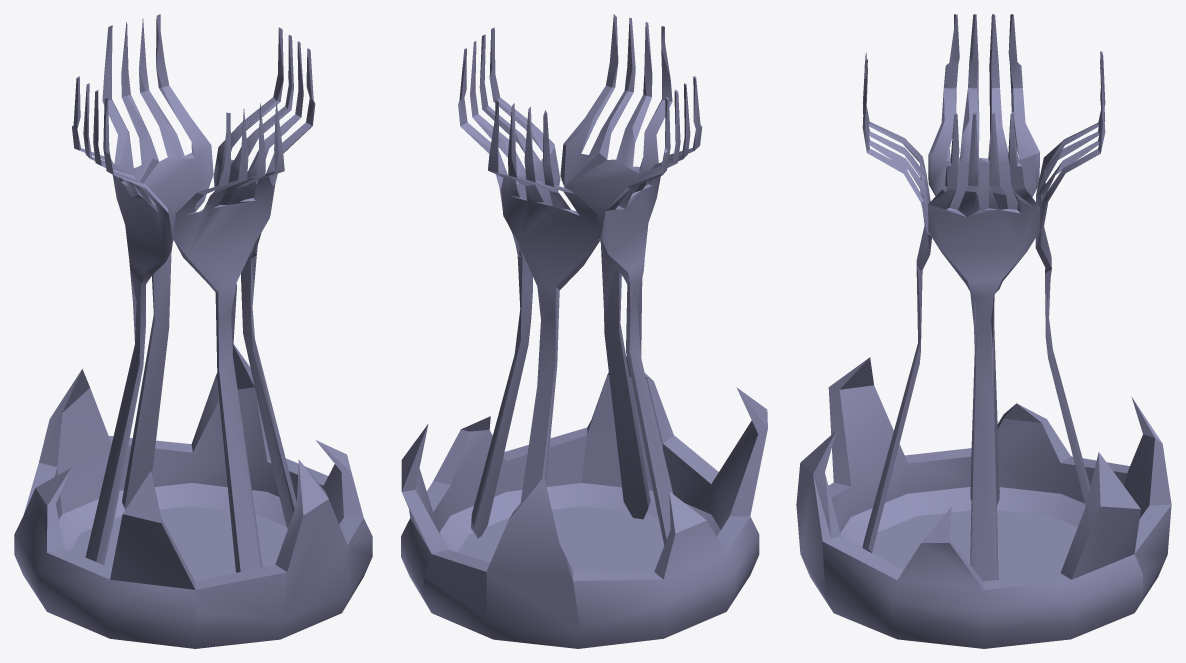
File: TorreTalher.fbx
3 renders of one model, left to right at view 1: azimuth 30°, elevation 25°; view 2: azimuth 150°, elevation 25°; view 3: azimuth 270°, elevation 25°, orthographic.
Visible parts, largest first — view 1: Torre; view 2: Torre; view 3: Torre.
Part boxes in pixels (left/top/right/bottom): Torre: left=14, top=14, right=372, bottom=648; Torre: left=401, top=14, right=767, bottom=648; Torre: left=796, top=14, right=1171, bottom=648.
Bounding box in the file's own units: 364 × 582 × 384.
